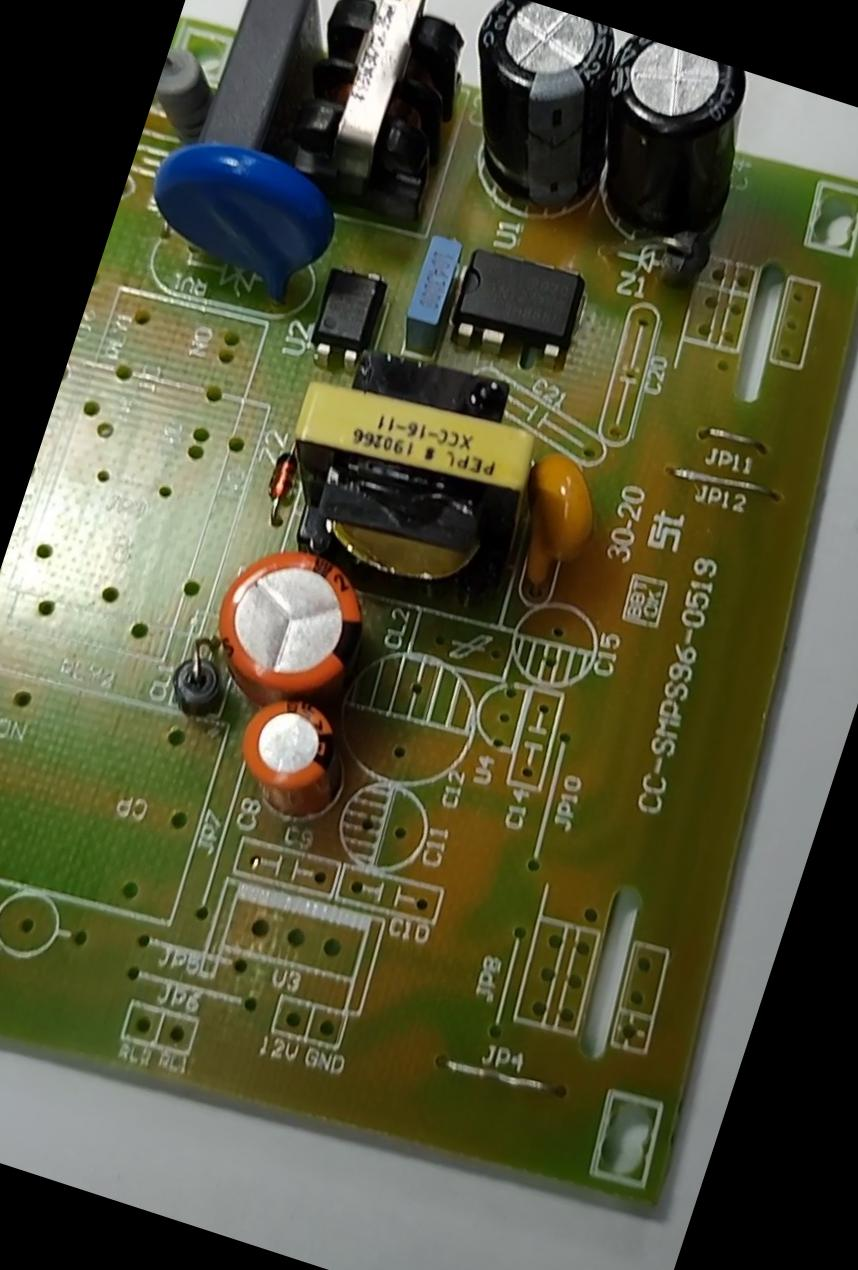Cap1: (174, 516, 400, 746)
Cap2: (209, 674, 376, 846)
Cap3: (415, 0, 652, 245)
Cap4: (540, 27, 778, 295)
MOSFET: (428, 231, 604, 390)
Mov: (108, 109, 372, 336)
Resistor: (140, 35, 244, 164)
Transformer: (220, 312, 600, 640), (255, 0, 501, 241)
